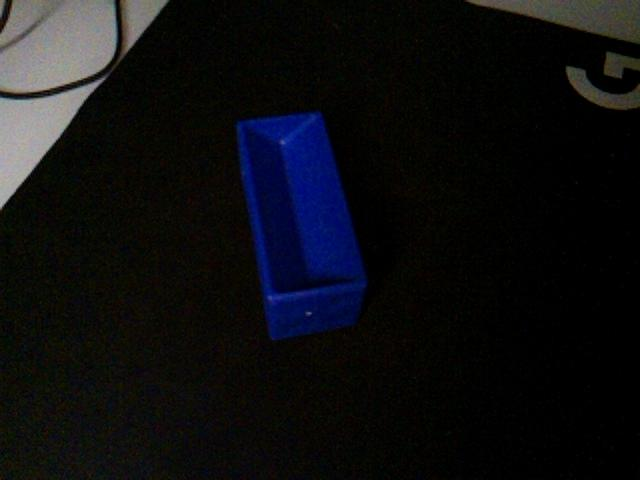blue: (234, 109, 370, 342)
